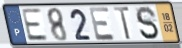2: (68, 6, 94, 43)
8: (46, 7, 69, 43)
E: (87, 6, 117, 42), (20, 8, 50, 43)
S: (135, 5, 161, 41)
T: (112, 6, 133, 42)
